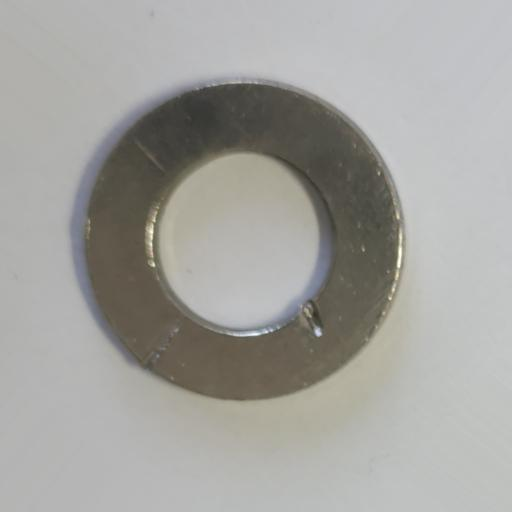scratch: (142, 325, 181, 372), (132, 137, 168, 175), (298, 299, 324, 336)
